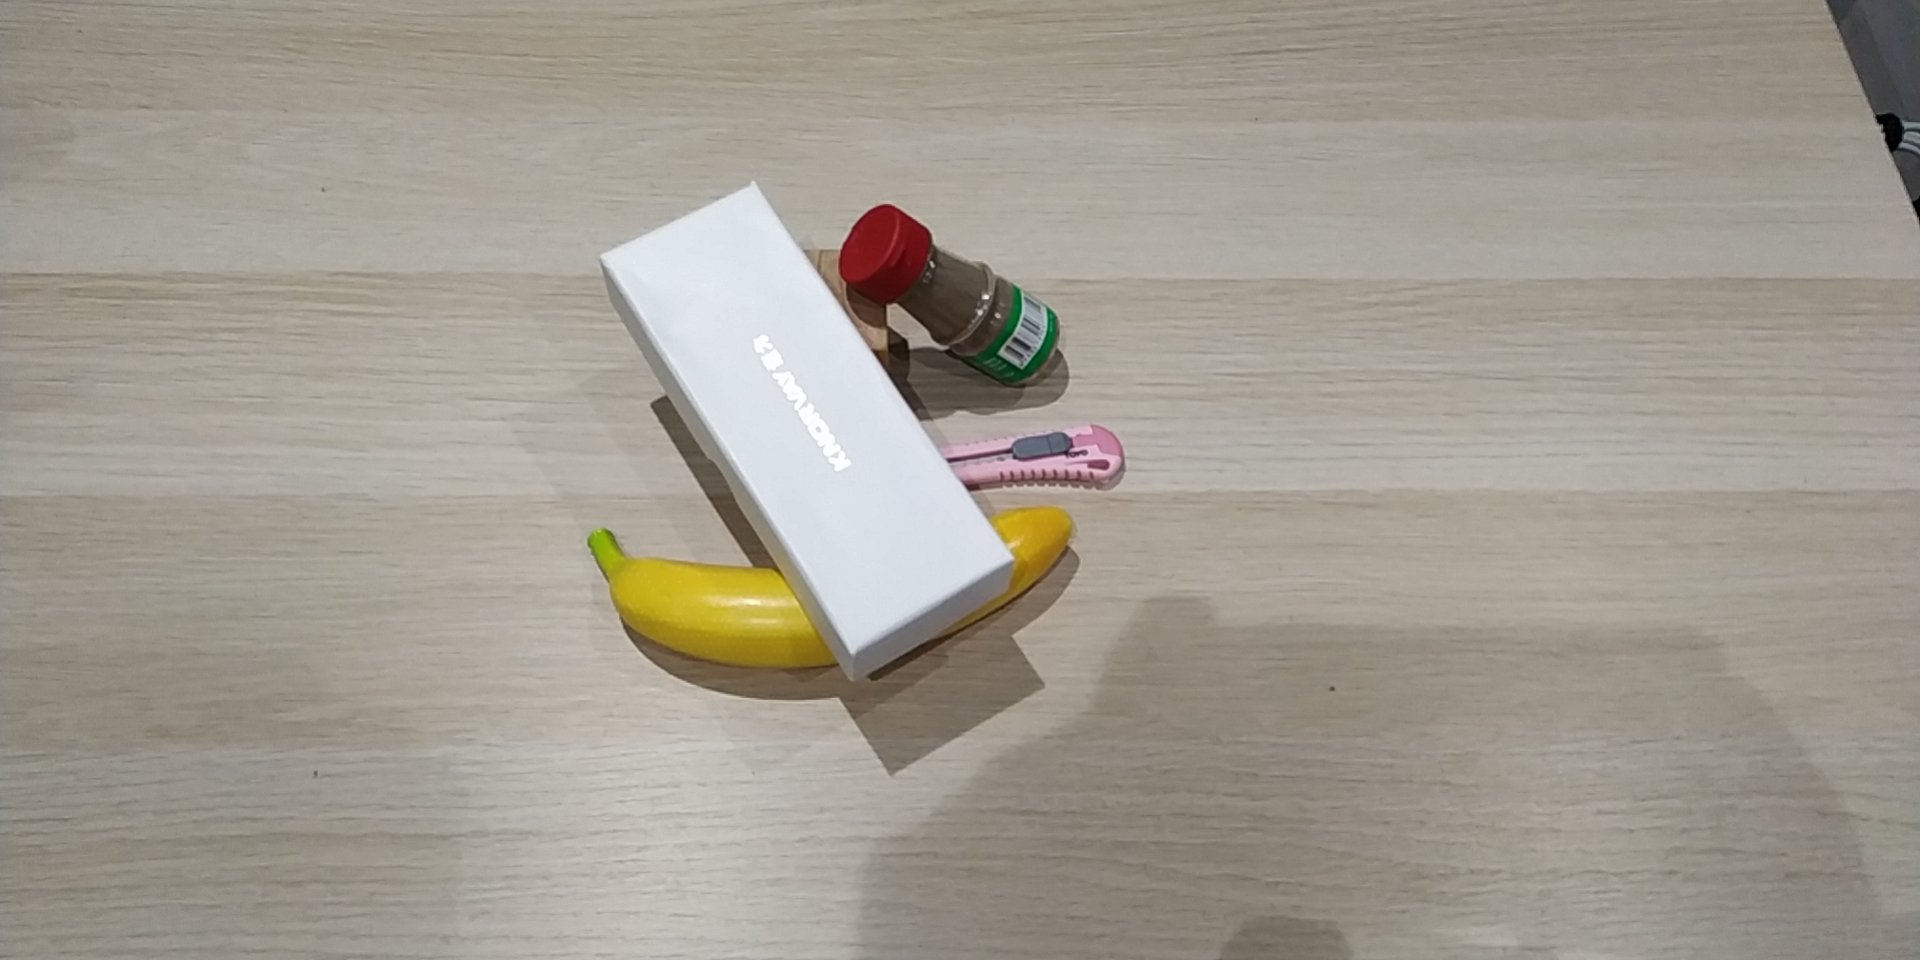banana: (566, 489, 1081, 684)
bottle: (833, 203, 1074, 396)
box: (598, 178, 1016, 671)
knife: (922, 419, 1128, 500)
